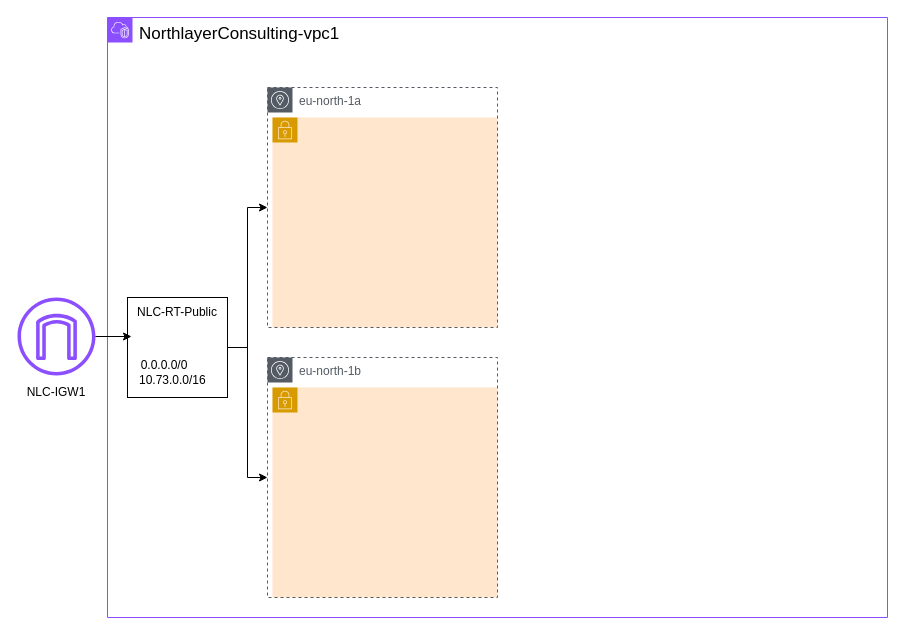
The diagram is 905 pixels wide and 635 high, and some of its shapes have lost their labels. Here are the shapes that lost their labels. From the top down, the centre of each, then its label:
At (385,222): "NLC-SubnetPublic-AZ1a 10.73.11.0/24".
At (385,492): "NLC-SubnetPublic-AZ1b 10.73.12.0/24".
